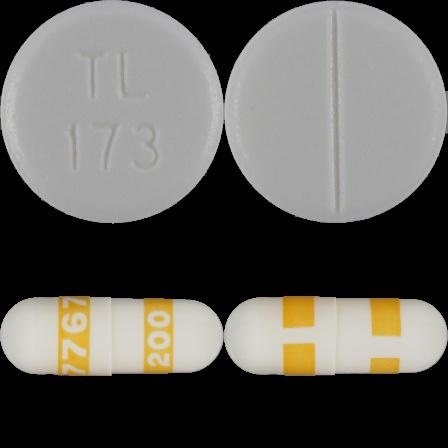10544-914: (0, 0, 224, 224)
